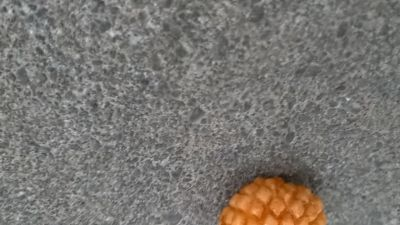eggs: (217, 176, 326, 225)
